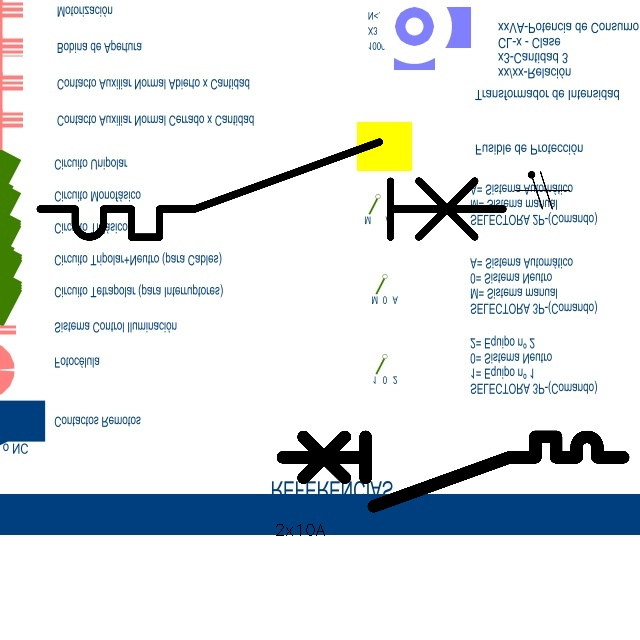interruptor_termomagnetico: (28, 130, 515, 249), (274, 428, 632, 515)
